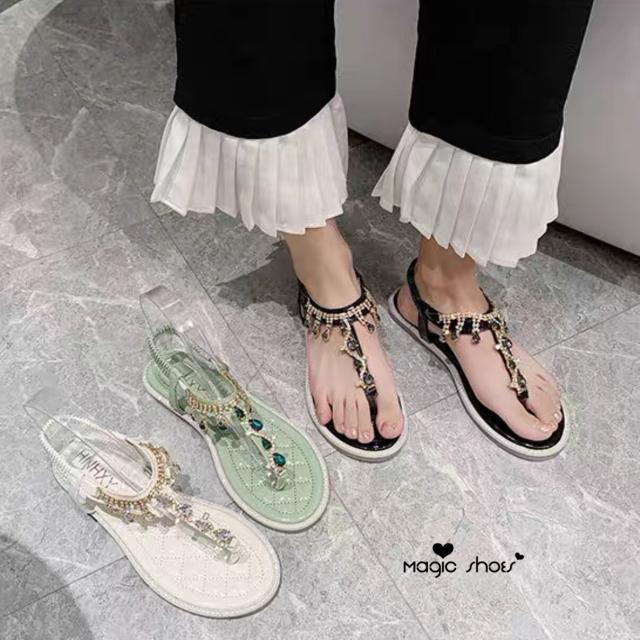Sandals: (248, 256, 616, 524)
